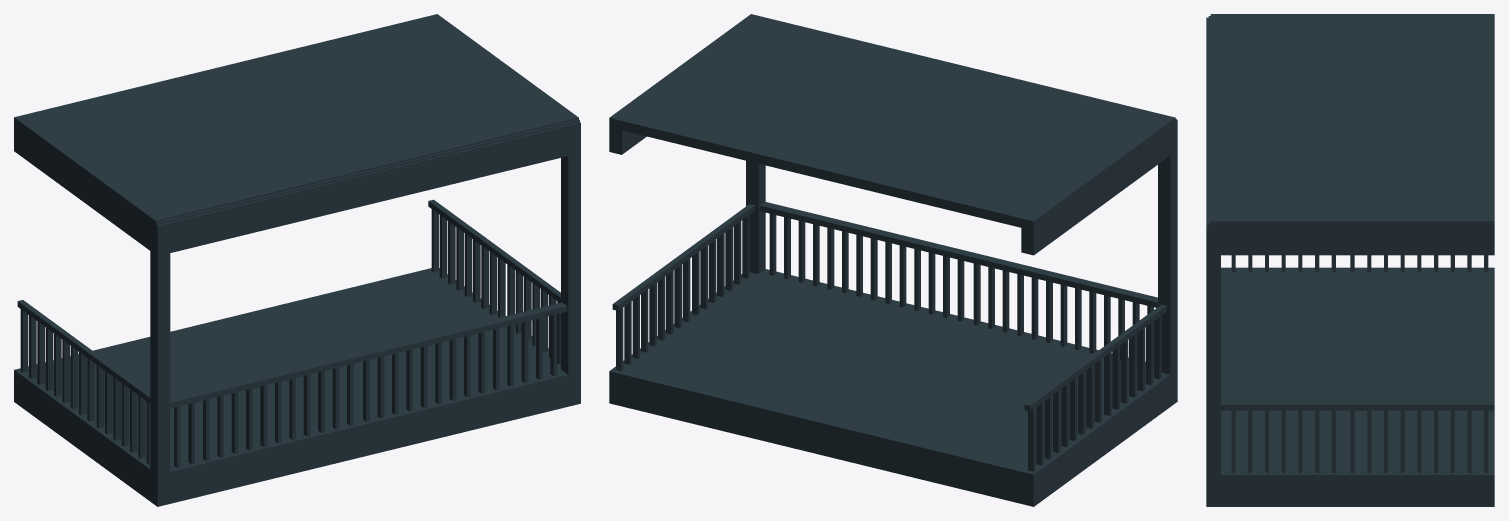
Rendered from balcony2_darkBlue.obj.
3 views of the same model, side by side, from view 1: azimuth 30°, elevation 25°; view 2: azimuth 150°, elevation 25°; view 3: azimuth 270°, elevation 25° (orthographic).
Bounding box in the file's own units: 23.5 × 15.1 × 13.8.
1 material, 1 textured.
